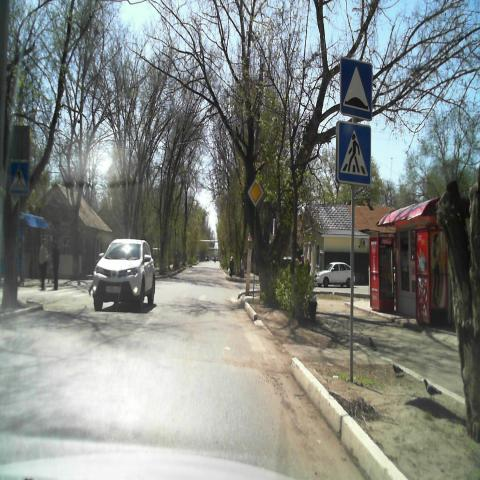5_20: (338, 57, 372, 119)
